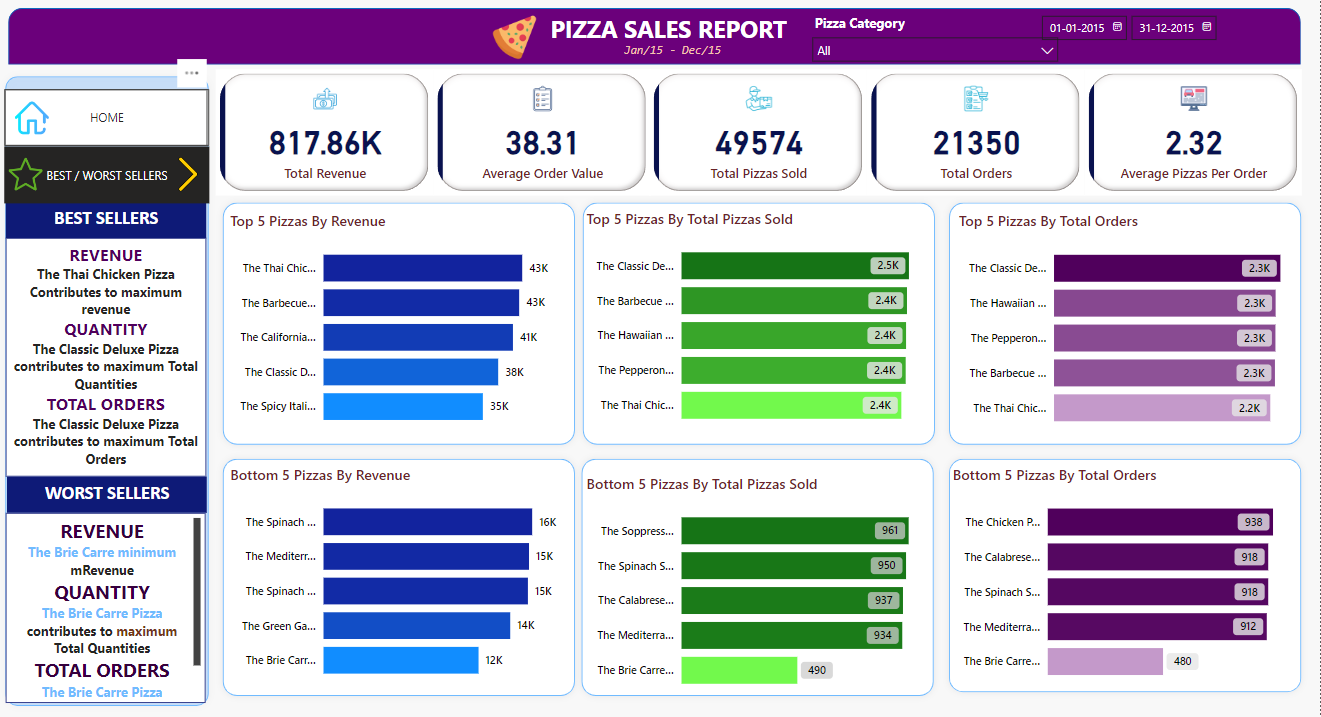

The page's visual inventory and layout, read from the dashboard file:
{"tool":"powerbi","page":{"name":"BEST / WORST SELLERS","canvas":[1500,820],"ordinal":1},"visuals":[{"type":"cardVisual","fields":{"Data":["pizza_sales.Total Revenue"]},"box":[247.6,80.4,246,143],"z":0,"group":"g1"},{"type":"shape","box":[1.4,80.8,246.5,729.6],"z":0},{"type":"group","id":"g1","title":"Group 1","box":[247.6,80.4,1230.2,143.1],"z":1000},{"type":"cardVisual","fields":{"Data":["pizza_sales.Average Order Value"]},"box":[493.6,80.4,246,143],"z":1000,"group":"g1"},{"type":"shape","box":[12.9,11.3,1464.9,64.3],"z":2000},{"type":"cardVisual","fields":{"Data":["pizza_sales.Total Pizzas Sold"]},"box":[739.6,80.4,246,143],"z":2000,"group":"g1"},{"type":"textbox","box":[586.9,11.3,349,49.9],"z":3000},{"type":"cardVisual","fields":{"Data":["pizza_sales.Total Orders"]},"box":[985.6,80.4,246,143],"z":3000,"group":"g1"},{"type":"textbox","box":[705.9,43.4,162.4,37],"z":4000},{"type":"cardVisual","fields":{"Data":["pizza_sales.Average Pizzas Per Order"]},"box":[1231.6,80.4,246,143],"z":4000,"group":"g1"},{"type":"image","box":[537.1,14.5,99.7,61.1],"z":5000},{"type":"shape","box":[247.9,223.8,415.1,290.4],"z":6000},{"type":"textbox","box":[9.6,230.6,227.4,41.6],"z":7000},{"type":"textbox","box":[9.6,272.2,227.4,270.6],"z":8000},{"type":"textbox","box":[11.3,542.6,226.7,41.1],"z":9000},{"type":"textbox","box":[9.9,583.7,226.7,215.3],"z":10000},{"type":"slicer","fields":{"Values":["pizza_sales.pizza_category"]},"box":[913.8,12.8,298.9,62.3],"z":11000},{"type":"slicer","fields":{"Values":["pizza_sales.order_date"]},"box":[1171.6,9.9,298.9,66.6],"z":12000},{"type":"shape","box":[655.9,223.8,415.1,290.4],"z":13000},{"type":"shape","box":[1071,223.8,415.1,290.4],"z":14000},{"type":"shape","box":[1071,514.3,415.1,280.5],"z":15000},{"type":"shape","box":[654.5,514.3,415.1,284.8],"z":16000},{"type":"shape","box":[247.9,514.3,415.1,284.8],"z":17000},{"type":"barChart","title":"Top 5 Pizzas By Revenue","fields":{"Category":["pizza_sales.pizza_name"],"Y":["pizza_sales.Total Revenue"]},"box":[259.4,240.2,392.3,259.4],"z":18000},{"type":"barChart","title":"Bottom 5 Pizzas By Revenue","fields":{"Category":["pizza_sales.pizza_name"],"Y":["pizza_sales.Total Revenue"]},"box":[259.3,528.4,392.4,259.3],"z":19000},{"type":"barChart","title":"Top 5 Pizzas By Total Pizzas Sold","fields":{"Category":["pizza_sales.pizza_name"],"Y":["pizza_sales.Total Pizzas Sold"]},"box":[662.9,238.6,400.3,261],"z":20000},{"type":"barChart","title":"Bottom 5 Pizzas By Total Pizzas Sold","fields":{"Category":["pizza_sales.pizza_name"],"Y":["pizza_sales.Total Pizzas Sold"]},"box":[662.9,538,400.3,261],"z":21000},{"type":"barChart","title":"Top 5 Pizzas By Total Orders","fields":{"Category":["pizza_sales.pizza_name"],"Y":["pizza_sales.Total Orders"]},"box":[1085.6,240.2,400.3,261],"z":22000},{"type":"barChart","title":"Bottom 5 Pizzas By Total Orders","fields":{"Category":["pizza_sales.pizza_name"],"Y":["pizza_sales.Total Orders"]},"box":[1077.6,528.4,400.3,261],"z":23000},{"type":"pageNavigator","box":[8,104,232,64],"z":23001},{"type":"pageNavigator","box":[8,168,232,64],"z":23002},{"type":"image","box":[192,176,48,48],"z":23003},{"type":"image","box":[16,112,48,48],"z":23004},{"type":"image","box":[8,176,48,48],"z":23005}]}

Visuals, with their boxes in screenshot pixels (x1, y1, x2, y2), scaled from the page's 1500x820 canvas onto the 1321x717 screenshot:
cardVisual - pizza_sales.Total Revenue: <bbox>218, 70, 435, 195</bbox>
shape: <bbox>1, 71, 218, 709</bbox>
"Group 1" group: <bbox>218, 70, 1301, 195</bbox>
cardVisual - pizza_sales.Average Order Value: <bbox>435, 70, 651, 195</bbox>
shape: <bbox>11, 10, 1301, 66</bbox>
cardVisual - pizza_sales.Total Pizzas Sold: <bbox>651, 70, 868, 195</bbox>
textbox: <bbox>517, 10, 824, 54</bbox>
cardVisual - pizza_sales.Total Orders: <bbox>868, 70, 1085, 195</bbox>
textbox: <bbox>622, 38, 765, 70</bbox>
cardVisual - pizza_sales.Average Pizzas Per Order: <bbox>1085, 70, 1301, 195</bbox>
image: <bbox>473, 13, 561, 66</bbox>
shape: <bbox>218, 196, 584, 450</bbox>
textbox: <bbox>8, 202, 209, 238</bbox>
textbox: <bbox>8, 238, 209, 475</bbox>
textbox: <bbox>10, 474, 210, 510</bbox>
textbox: <bbox>9, 510, 208, 699</bbox>
slicer - pizza_sales.pizza_category: <bbox>805, 11, 1068, 66</bbox>
slicer - pizza_sales.order_date: <bbox>1032, 9, 1295, 67</bbox>
shape: <bbox>578, 196, 943, 450</bbox>
shape: <bbox>943, 196, 1309, 450</bbox>
shape: <bbox>943, 450, 1309, 695</bbox>
shape: <bbox>576, 450, 942, 699</bbox>
shape: <bbox>218, 450, 584, 699</bbox>
"Top 5 Pizzas By Revenue" barChart: <bbox>228, 210, 574, 437</bbox>
"Bottom 5 Pizzas By Revenue" barChart: <bbox>228, 462, 574, 689</bbox>
"Top 5 Pizzas By Total Pizzas Sold" barChart: <bbox>584, 209, 936, 437</bbox>
"Bottom 5 Pizzas By Total Pizzas Sold" barChart: <bbox>584, 470, 936, 699</bbox>
"Top 5 Pizzas By Total Orders" barChart: <bbox>956, 210, 1309, 438</bbox>
"Bottom 5 Pizzas By Total Orders" barChart: <bbox>949, 462, 1302, 690</bbox>
pageNavigator: <bbox>7, 91, 211, 147</bbox>
pageNavigator: <bbox>7, 147, 211, 203</bbox>
image: <bbox>169, 154, 211, 196</bbox>
image: <bbox>14, 98, 56, 140</bbox>
image: <bbox>7, 154, 49, 196</bbox>
